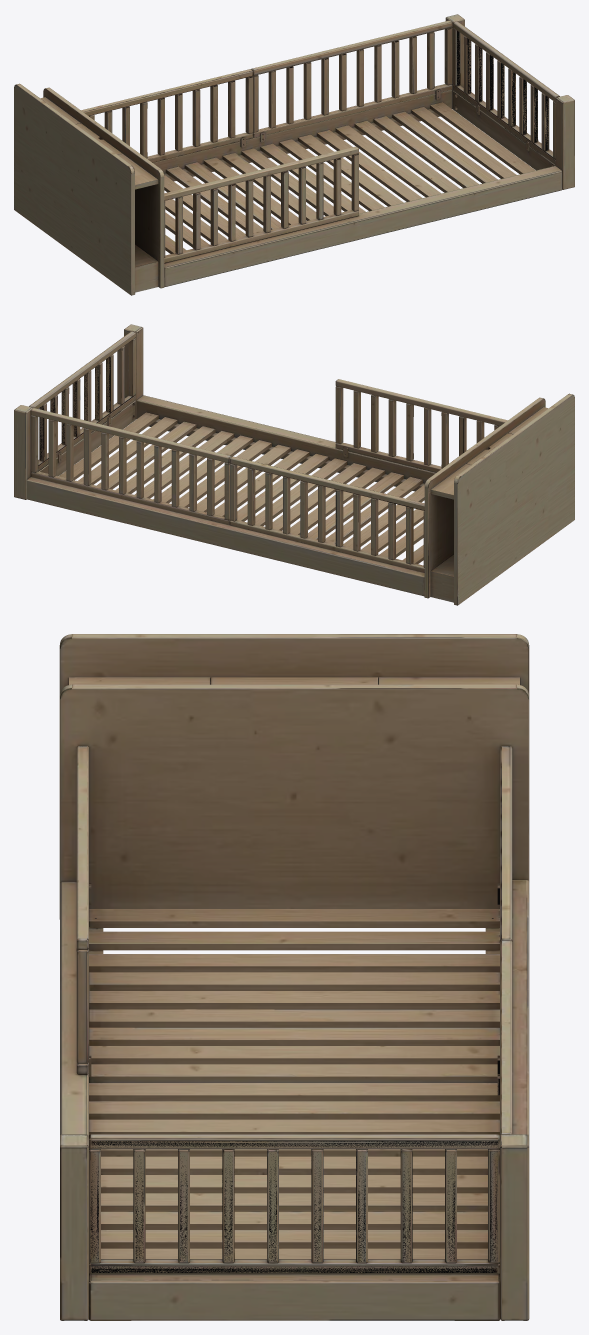
3 views of the same model, one above another, from view 1: azimuth 30°, elevation 25°; view 2: azimuth 150°, elevation 25°; view 3: azimuth 270°, elevation 25° (orthographic). The views are drawn at different scales.
Visible parts, largest first — view 1: 190x80; view 2: 190x80; view 3: 190x80.
Part boxes in pixels (x1=…): 190x80: x1=14, y1=14, x2=574, y2=295; 190x80: x1=14, y1=324, x2=574, y2=605; 190x80: x1=59, y1=634, x2=529, y2=1320.
Bounding box in the file's own units: 2.12 × 0.58 × 0.97.
1 material, 1 textured.
